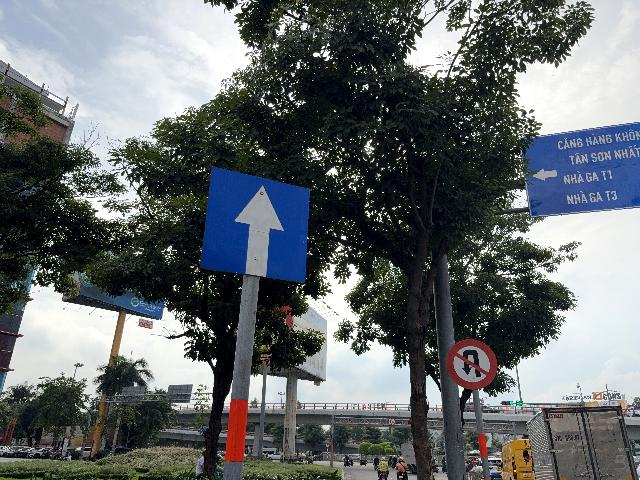cam-quay-dau-xe: (446, 338, 498, 390)
duong-mot-chieu: (200, 166, 311, 284)
